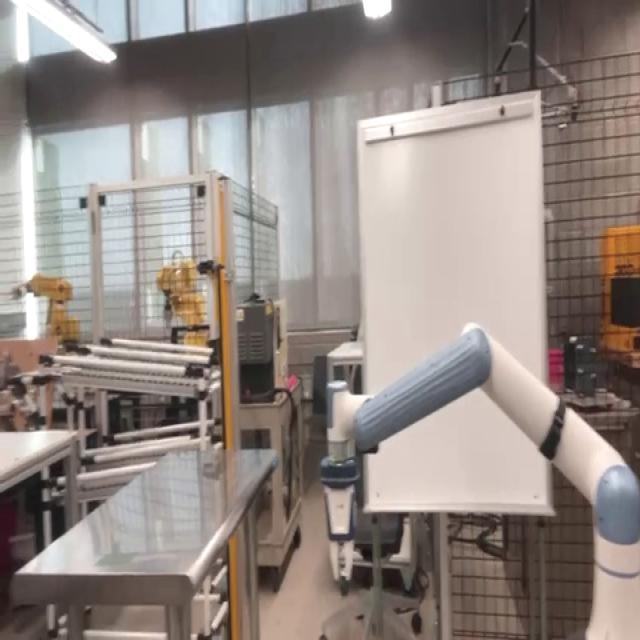robot: (320, 320, 640, 637), (10, 269, 81, 343)
